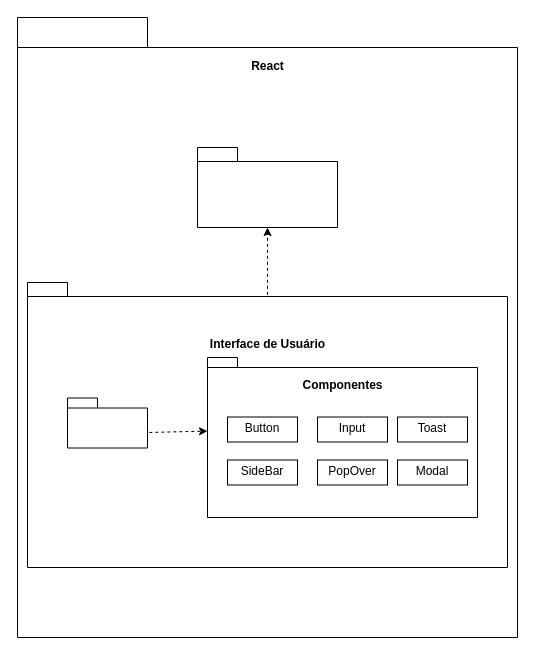
Image size: 535x655. Some labels were removed from this diagram. Here are the shapes that lost their labels. From the top down, the centre of each, then its label:
At pixel 267 187: "Controle de Estados".
At pixel 107 422: "Telas".
